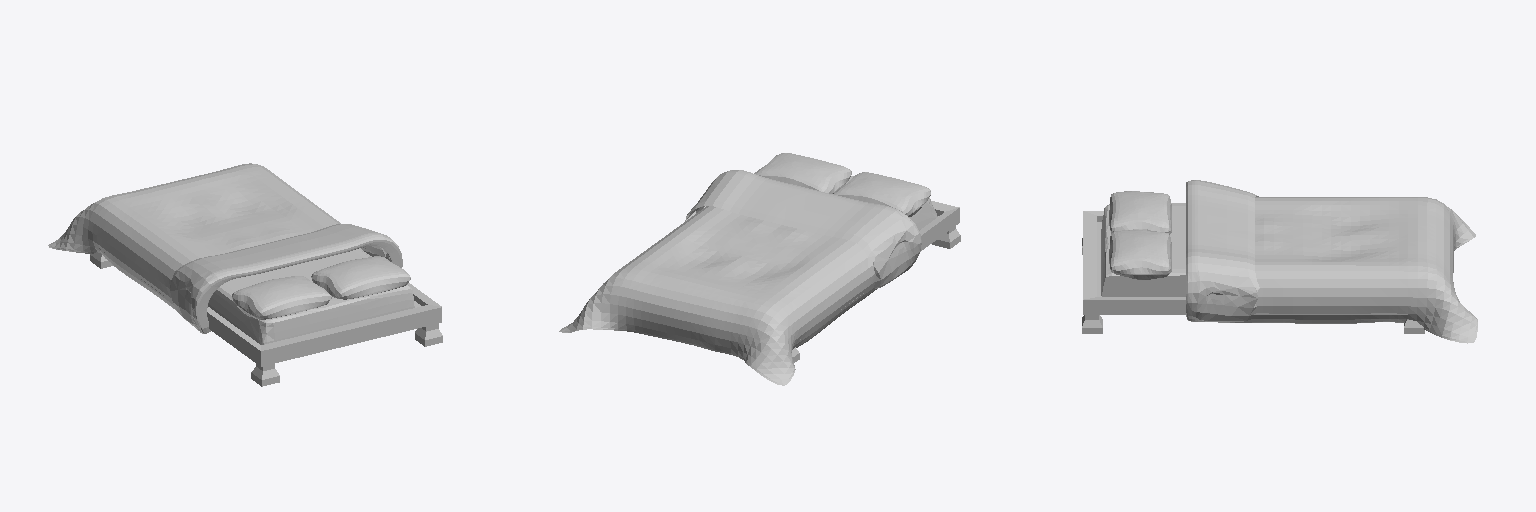
Rendered from bed_simple.obj.
3 views of the same model, side by side, from view 1: azimuth 30°, elevation 25°; view 2: azimuth 150°, elevation 25°; view 3: azimuth 270°, elevation 25° (orthographic).
Visible parts, largest first — view 1: Plane, Cube.003_Cube.006, Cube.004_Cube.001, Cube.001_Cube.004, Cube; view 2: Plane, Cube.004_Cube.001, Cube.001_Cube.004; view 3: Plane, Cube.004_Cube.001, Cube.001_Cube.004, Cube.003_Cube.006, Cube.
Part boxes in pixels (x1,y1,x2,y2): Plane: (48, 163, 402, 333); Cube.003_Cube.006: (208, 249, 414, 344); Cube.004_Cube.001: (232, 256, 410, 319); Cube.001_Cube.004: (99, 248, 441, 366); Cube: (90, 252, 442, 386); Plane: (559, 170, 921, 385); Cube.004_Cube.001: (754, 153, 930, 216); Cube.001_Cube.004: (800, 201, 959, 339); Plane: (1186, 180, 1477, 343); Cube.004_Cube.001: (1109, 191, 1171, 279); Cube.001_Cube.004: (1083, 211, 1407, 314); Cube.003_Cube.006: (1101, 203, 1185, 296); Cube: (1082, 238, 1424, 333).
Size of the model in its own units: 6.14 by 1.83 by 9.32.